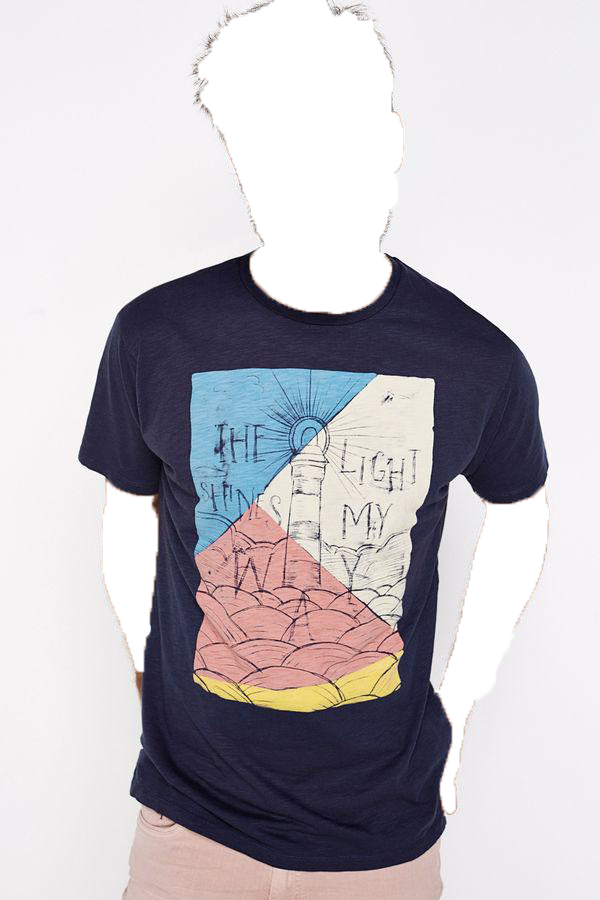teeshirt: (72, 245, 556, 882)
